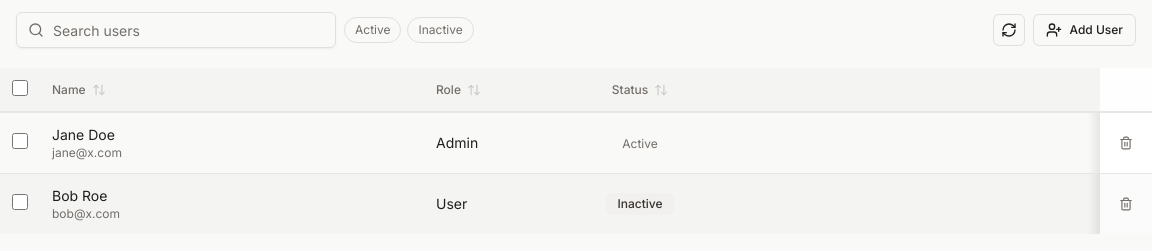
Test: UsersSection › searches by name
Type "jane" into the field with placeholder "Search users". click: (176, 30)
box: [16,12,336,48]
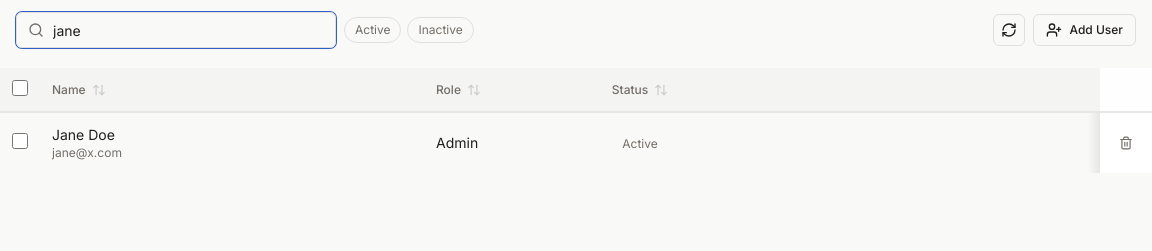
Expected: the text "Jane Doe" is shown, [52,126,115,143]
Expected: the text "Bob Roe" is gone
